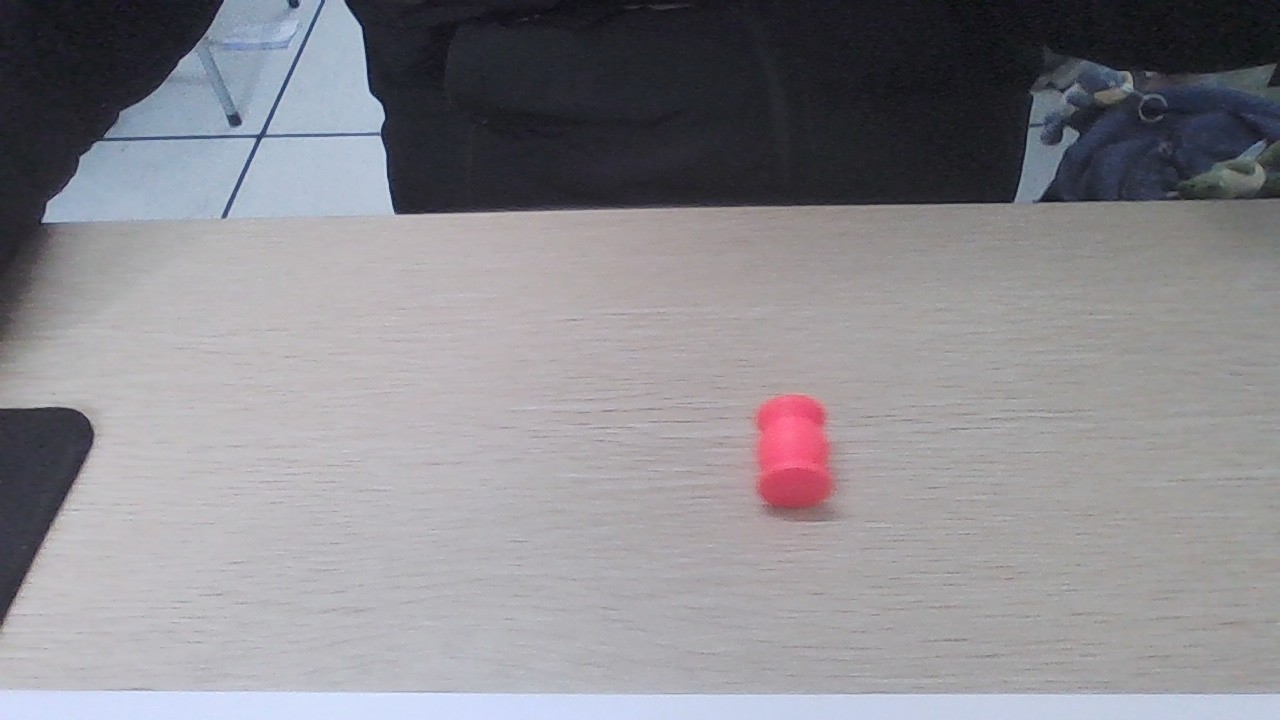KHS-plastic: (751, 400, 826, 502)
